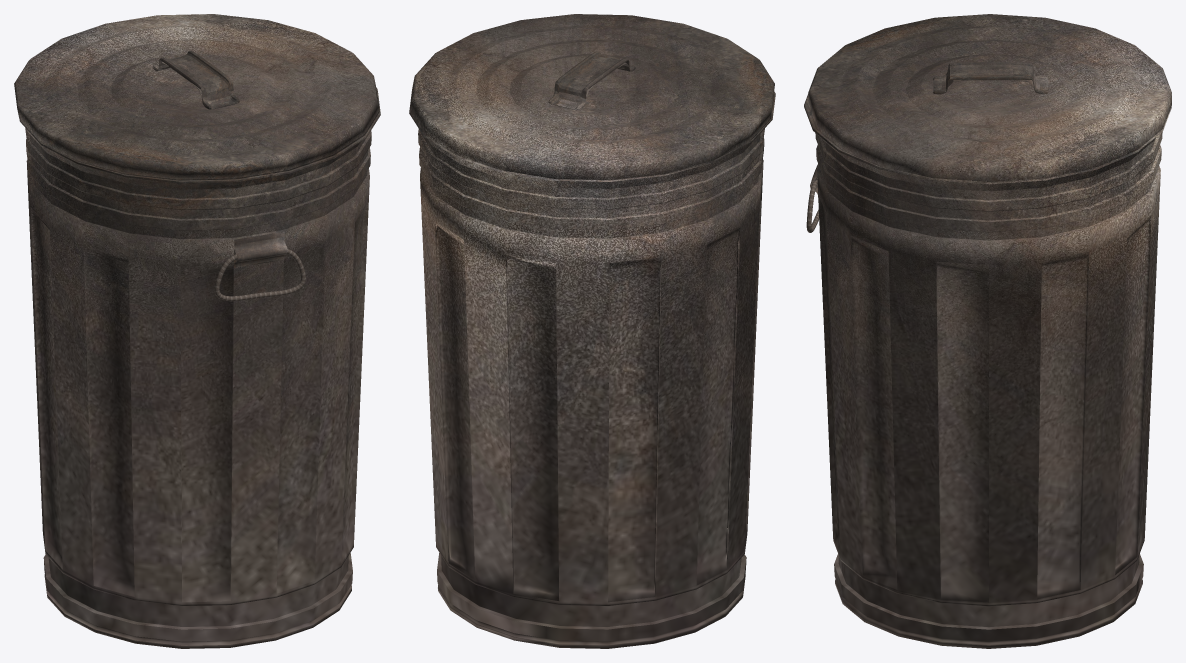
File: Trashcan.obj
3 views of the same model, side by side, from view 1: azimuth 30°, elevation 25°; view 2: azimuth 150°, elevation 25°; view 3: azimuth 270°, elevation 25° (orthographic).
Parts seen in each view (by area): view 1: Cylinder, Cylinder.008_Cylinder.009, Plane, Cylinder.007, BezierCircle_Mesh; view 2: Cylinder, Cylinder.008_Cylinder.009, Plane; view 3: Cylinder, Cylinder.008_Cylinder.009, Plane.
Boxes of the visible parts, left/top/right/bottom form: Cylinder: left=25, top=128, right=371, bottom=648; Cylinder.008_Cylinder.009: left=14, top=14, right=380, bottom=183; Plane: left=152, top=50, right=239, bottom=109; Cylinder.007: left=234, top=237, right=287, bottom=267; BezierCircle_Mesh: left=214, top=249, right=305, bottom=301; Cylinder: left=418, top=128, right=764, bottom=648; Cylinder.008_Cylinder.009: left=409, top=14, right=775, bottom=181; Plane: left=548, top=51, right=635, bottom=110; Cylinder: left=815, top=132, right=1162, bottom=648; Cylinder.008_Cylinder.009: left=804, top=14, right=1171, bottom=184; Plane: left=933, top=62, right=1048, bottom=94.
Bounding box in the file's own units: 0.625 × 0.9676 × 0.6273.
Materials: 2 (2 with a texture image).
